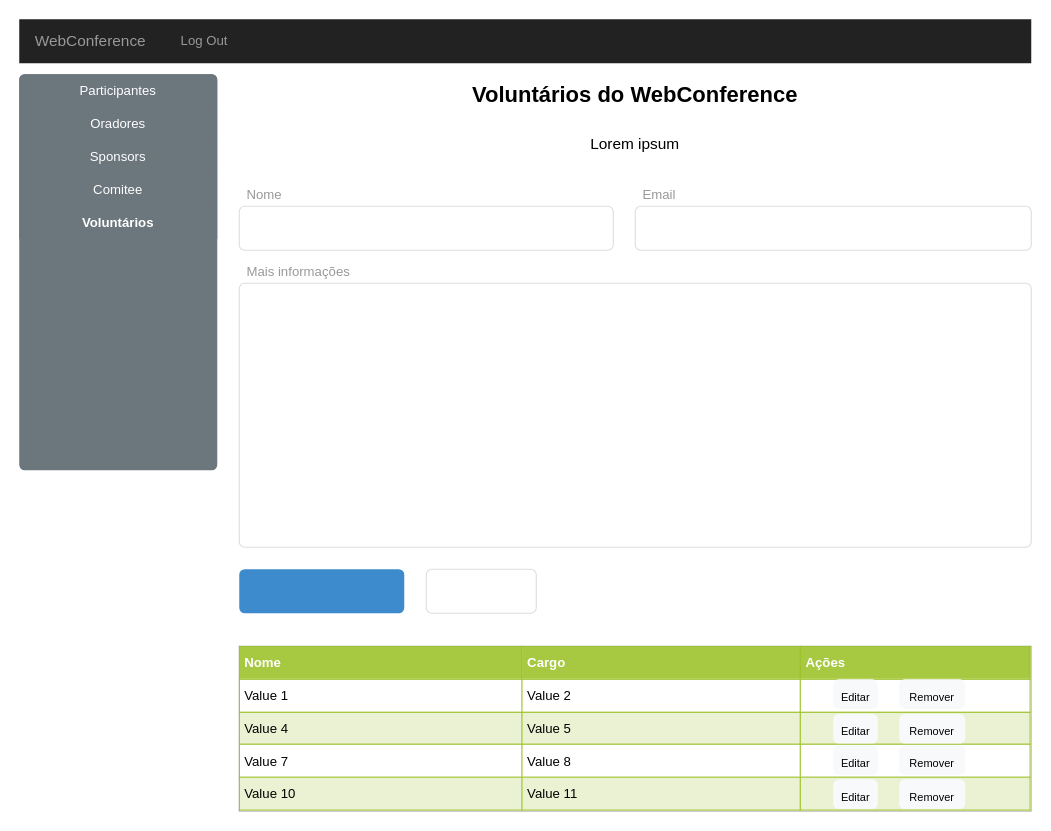
Some shapes in this 1051 by 831 pixel diagram are drawn without their labels. Here are the shapes that lost their labels. From the top down, the box of each, then its label:
(239, 569, 404, 613): Salvar
(425, 568, 536, 613): Limpar
